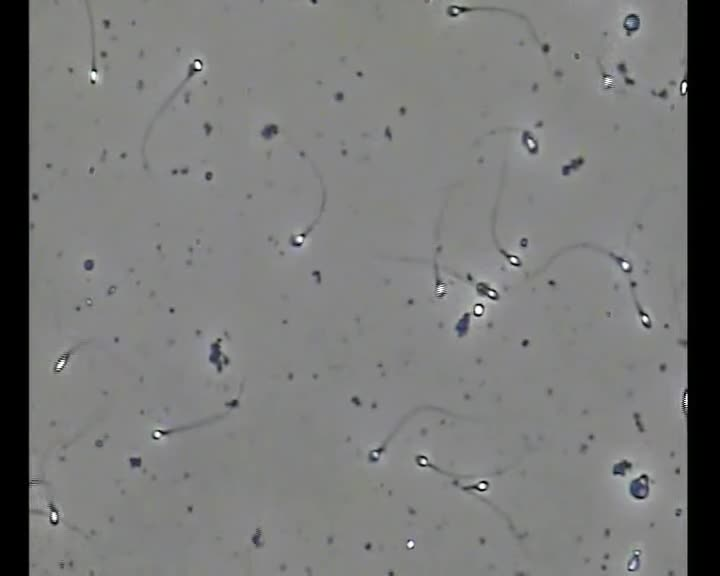spermhead: (629, 473, 650, 500), (610, 252, 633, 273), (475, 281, 499, 300), (521, 130, 538, 154), (462, 479, 489, 493), (623, 12, 639, 35), (455, 312, 470, 336), (53, 352, 69, 373), (611, 459, 631, 475), (627, 549, 640, 572), (188, 57, 204, 75), (48, 502, 60, 525), (88, 66, 101, 86), (446, 4, 466, 17), (504, 252, 521, 267), (434, 279, 447, 298), (415, 453, 431, 468), (290, 232, 306, 247), (368, 446, 383, 462), (639, 310, 652, 328), (152, 427, 168, 440), (602, 73, 615, 89), (472, 302, 485, 317), (224, 398, 238, 408), (682, 388, 687, 415), (450, 475, 460, 487), (679, 78, 686, 95), (519, 236, 528, 249), (465, 272, 474, 284), (86, 296, 94, 308), (407, 539, 415, 550)
